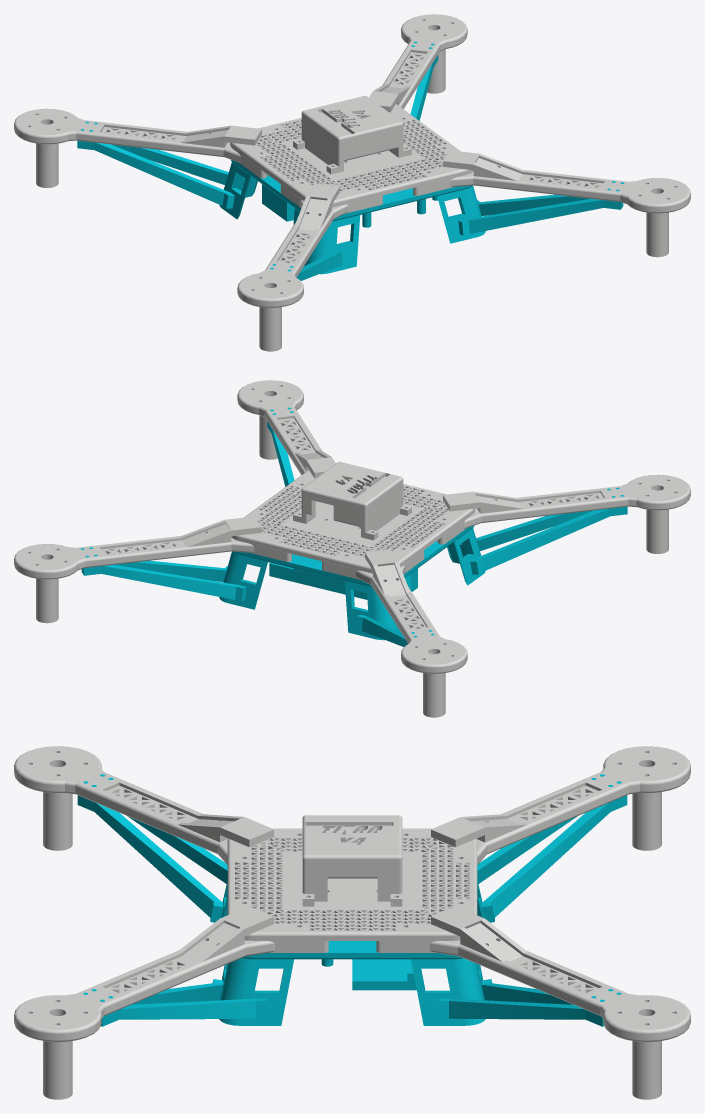
3 views of the same model, one above another, from view 1: azimuth 30°, elevation 25°; view 2: azimuth 150°, elevation 25°; view 3: azimuth 270°, elevation 25° (orthographic). The views are drawn at different scales.
Visible parts, largest first — view 1: Body1:4, Body1, Body1:2, Body1:5, Body1:1, Body1:3, Body1:6, Body2:2, Body1:7, Body6, Body1:12, Body1:9 (+6 smaller); view 2: Body1:4, Body1:5, Body1:3, Body1:1, Body1:2, Body1, Body1:6, Body1:10, Body2:1, Body6, Body2:3, Body1:11 (+6 smaller); view 3: Body1:4, Body1, Body1:3, Body1:5, Body1:1, Body1:2, Body1:6, Body1:9, Body2:3, Body6, Body2, Body1:8 (+8 smaller).
Part boxes in pixels (x1,y1,x2,y2): Body1:4: (230,104,473,207); Body1: (413,170,690,257); Body1:2: (14,108,267,187); Body1:5: (219,160,485,274); Body1:1: (237,184,382,351); Body1:3: (383,14,467,108); Body1:6: (293,95,411,174); Body2:2: (77,129,234,208); Body1:7: (458,188,623,235); Body6: (309,98,394,134); Body1:12: (443,150,524,180); Body1:9: (85,121,247,189); Body1:4: (231,470,474,573); Body1:5: (219,526,485,640); Body1:3: (14,536,291,623); Body1:1: (437,474,690,553); Body1:2: (322,550,467,717); Body1: (237,380,321,474); Body1:6: (293,461,411,540); Body1:10: (470,495,627,574); Body2:1: (81,554,246,601); Body6: (310,464,395,500); Body2:3: (476,487,619,551); Body1:11: (180,516,261,546); Body1:4: (227,828,477,940); Body1: (14,940,328,1099); Body1:3: (376,940,690,1099); Body1:5: (219,880,485,1025); Body1:1: (14,746,227,864); Body1:2: (477,746,690,864); Body1:6: (302,815,402,906); Body1:9: (481,781,627,922); Body2:3: (77,781,223,922); Body6: (311,817,393,852); Body2: (100,996,265,1026); Body1:8: (439,996,604,1026).
Bounding box in the file's own units: 40.63 × 8.86 × 40.63.
